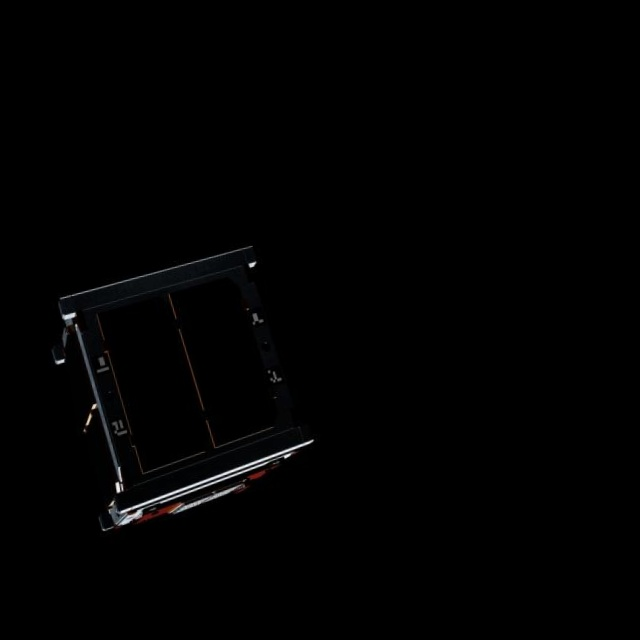satellite: (36, 241, 318, 543)
